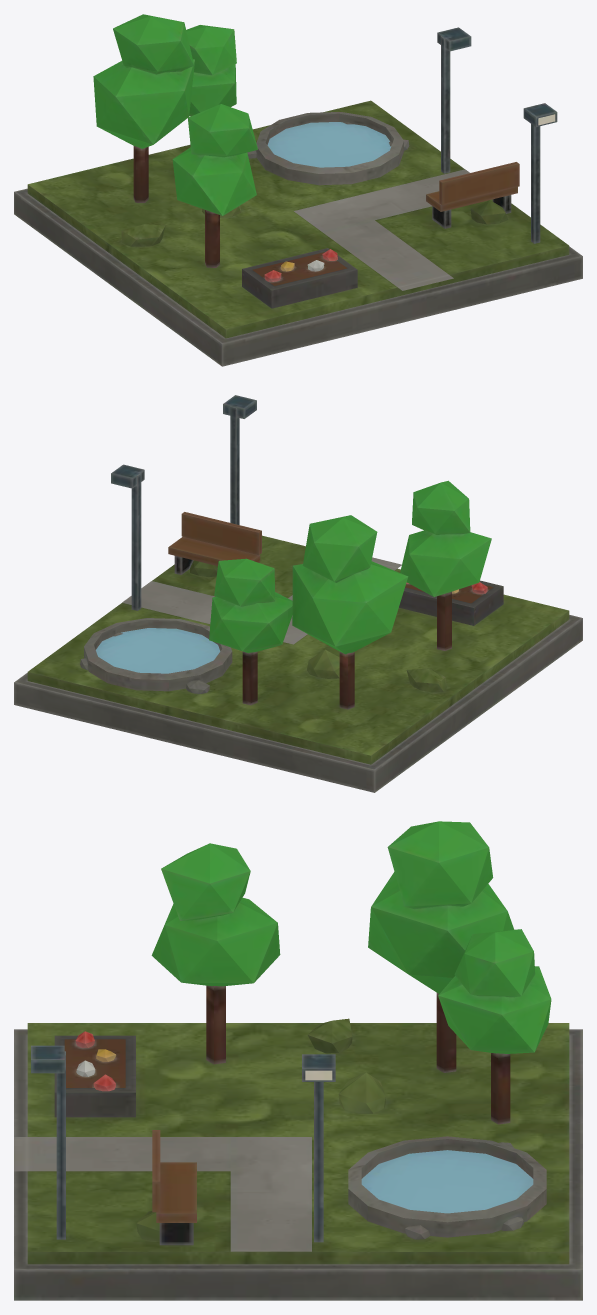
Rendered from park_module.glb.
The picture shows the model from 3 angles, top to bottom: view 1: azimuth 30°, elevation 25°; view 2: azimuth 150°, elevation 25°; view 3: azimuth 270°, elevation 25°; orthographic projection. The views are drawn at different scales.
Parts seen in each view (by area): view 1: te_park_module; view 2: te_park_module; view 3: te_park_module.
Part boxes in pixels (x1=…): te_park_module: x1=14, y1=14, x2=582, y2=366; te_park_module: x1=14, y1=395, x2=582, y2=792; te_park_module: x1=14, y1=821, x2=582, y2=1300.
Size of the model in its own units: 0.84 by 0.4807 by 0.84.
Materials: 1 (1 with a texture image).
